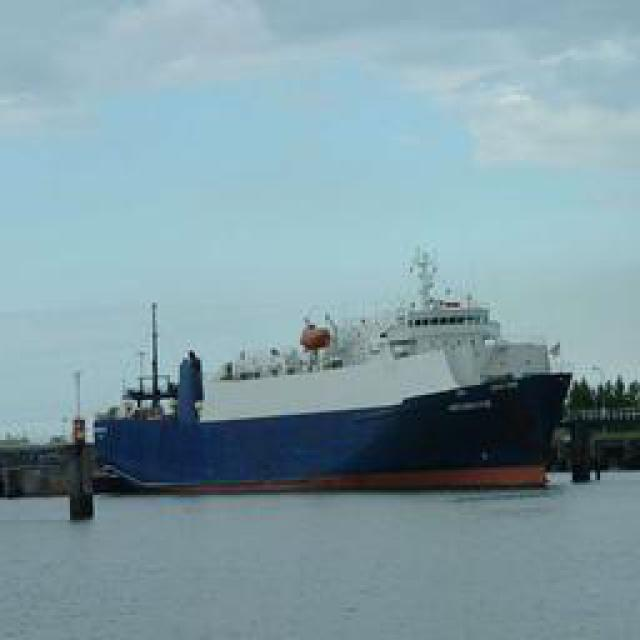Ship: (97, 330, 567, 490)
